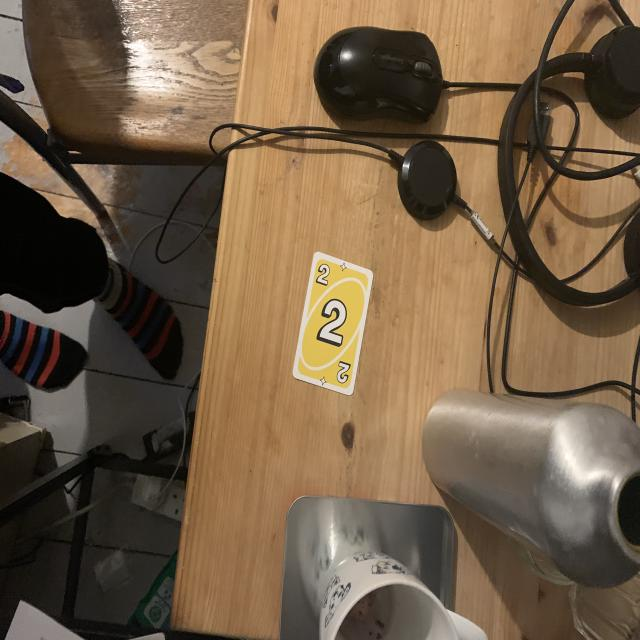lyellow-2: (312, 259, 333, 291)
